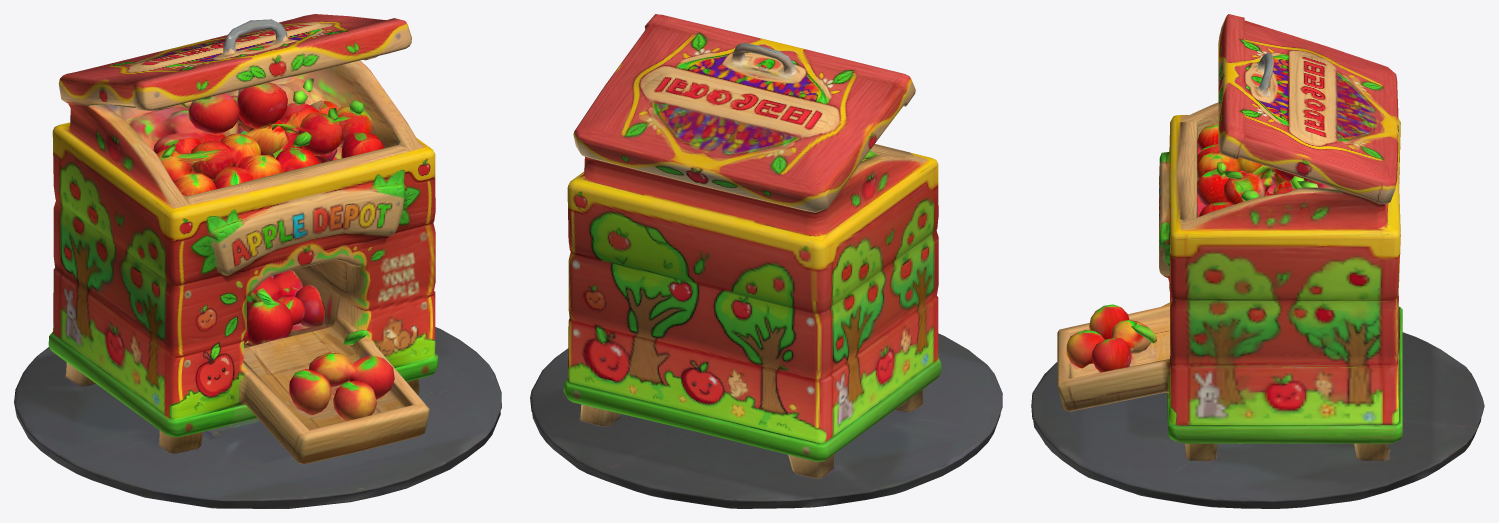
The model's file is Meshy_AI_Make_this_image_easie_0516181638_texture.fbx.
The picture shows the model from 3 angles, left to right: view 1: azimuth 30°, elevation 25°; view 2: azimuth 150°, elevation 25°; view 3: azimuth 270°, elevation 25°; orthographic projection. The views are drawn at different scales.
Visible parts, largest first — view 1: Mesh_0; view 2: Mesh_0; view 3: Mesh_0.
Part boxes in pixels (x1=…): Mesh_0: x1=14, y1=14, x2=501, y2=508; Mesh_0: x1=530, y1=14, x2=1002, y2=508; Mesh_0: x1=1031, y1=14, x2=1484, y2=508.
Size of the model in its own units: 191 by 165 by 191.
1 material, 1 textured.
